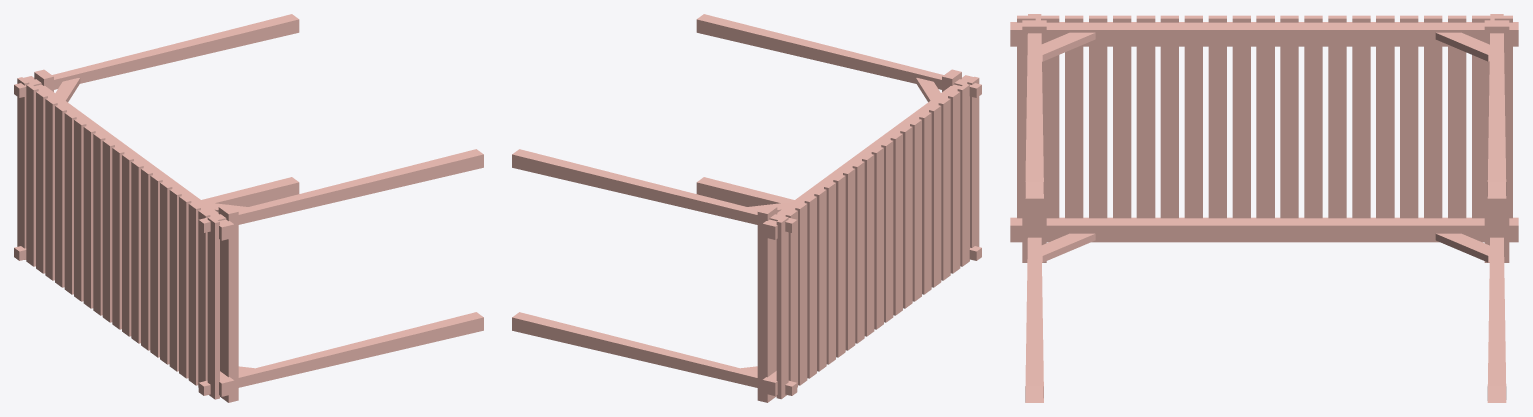
The model's file is Mega_Asset_s_Pack_Cube_005.FBX.
3 views of the same model, side by side, from view 1: azimuth 30°, elevation 25°; view 2: azimuth 150°, elevation 25°; view 3: azimuth 270°, elevation 25° (orthographic). The views are drawn at different scales.
Parts seen in each view (by area): view 1: Mega_Asset_s_Pack_Cube_005; view 2: Mega_Asset_s_Pack_Cube_005; view 3: Mega_Asset_s_Pack_Cube_005.
Part boxes in pixels (left/top/right/bottom): Mega_Asset_s_Pack_Cube_005: left=14, top=14, right=483, bottom=402; Mega_Asset_s_Pack_Cube_005: left=512, top=14, right=981, bottom=402; Mega_Asset_s_Pack_Cube_005: left=1010, top=14, right=1518, bottom=402.
Size of what is drawn, in the model's own units: 503 by 633 by 325.
